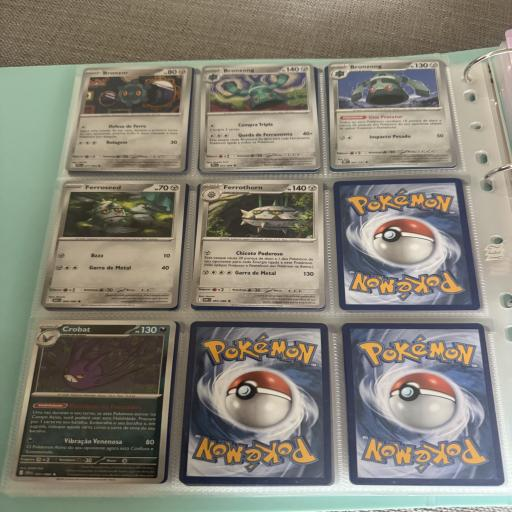card: (10, 318, 177, 483), (40, 180, 186, 307), (190, 178, 327, 308), (328, 59, 456, 170), (65, 65, 193, 172), (197, 63, 321, 172)
